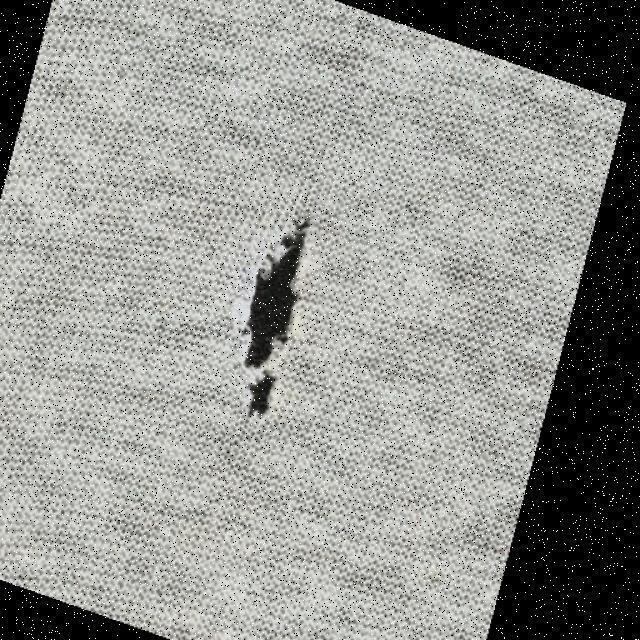other: (200, 162, 329, 441)
